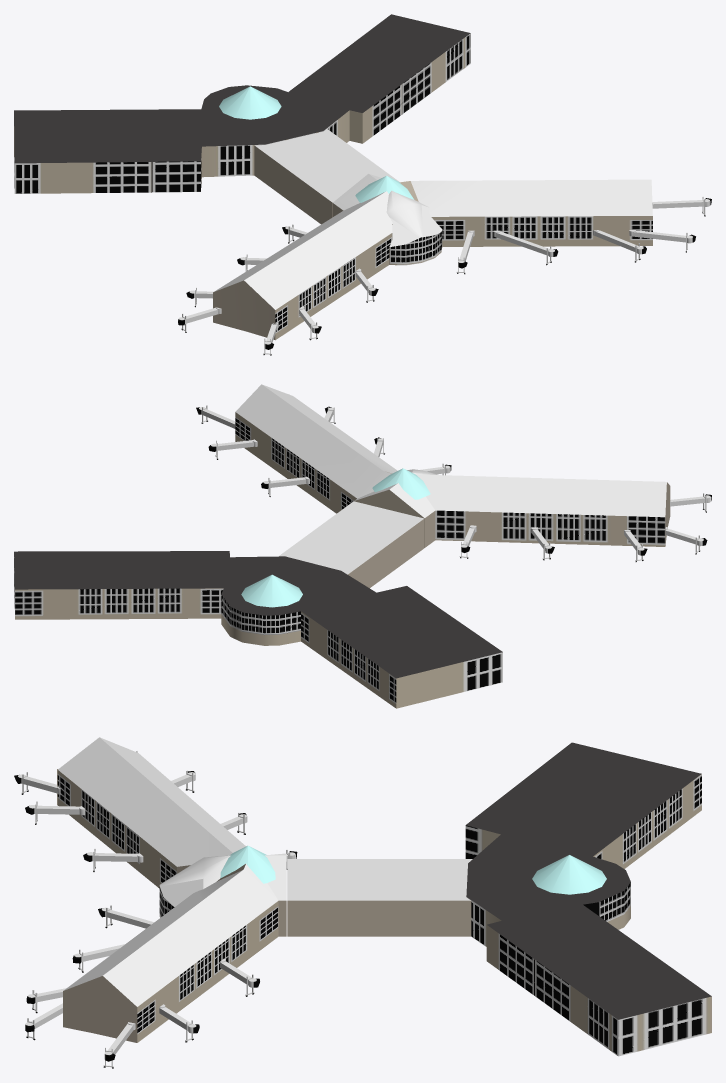
File: POSAirport.glb
3 renders of one model, top to bottom at view 1: azimuth 30°, elevation 25°; view 2: azimuth 150°, elevation 25°; view 3: azimuth 270°, elevation 25°, orthographic. The views are drawn at different scales.
Parts seen in each view (by area): view 1: Buffer Object 22, Merged Objects, Buffer Object 17, Buffer Object 24, Buffer Object 15, Buffer Object 23, Buffer Object 16, Buffer Object 21; view 2: Buffer Object 22, Merged Objects, Buffer Object 26, Buffer Object 19, Buffer Object 15, Buffer Object 17, Buffer Object 25, Buffer Object 18, Buffer Object 20, Buffer Object 16; view 3: Buffer Object 22, Merged Objects, Buffer Object 15, Buffer Object 17, Buffer Object 25, Buffer Object 23, Buffer Object 18, Buffer Object 16, Buffer Object 20.
Part boxes in pixels (x1,y1,x2,y2): Buffer Object 22: [14, 14, 470, 163]; Merged Objects: [214, 129, 652, 309]; Buffer Object 17: [14, 33, 470, 193]; Buffer Object 24: [431, 216, 652, 246]; Buffer Object 15: [213, 145, 418, 339]; Buffer Object 23: [275, 233, 391, 339]; Buffer Object 16: [219, 86, 413, 202]; Buffer Object 21: [390, 230, 442, 265]; Buffer Object 22: [14, 551, 502, 678]; Merged Objects: [235, 384, 666, 574]; Buffer Object 26: [435, 510, 665, 546]; Buffer Object 19: [15, 588, 223, 619]; Buffer Object 15: [348, 472, 670, 588]; Buffer Object 17: [14, 557, 502, 708]; Buffer Object 25: [235, 412, 356, 513]; Buffer Object 18: [301, 611, 396, 708]; Buffer Object 20: [221, 594, 300, 645]; Buffer Object 16: [241, 468, 430, 607]; Buffer Object 22: [466, 742, 711, 1019]; Merged Objects: [58, 737, 472, 1006]; Buffer Object 15: [57, 769, 471, 1042]; Buffer Object 17: [465, 825, 711, 1056]; Buffer Object 25: [137, 901, 278, 1042]; Buffer Object 23: [57, 770, 176, 888]; Buffer Object 18: [593, 774, 701, 868]; Buffer Object 16: [220, 845, 606, 894]; Buffer Object 20: [583, 882, 630, 929].
Size of the model in its own units: 318 by 34.59 by 306.
74 materials, 1 textured.
